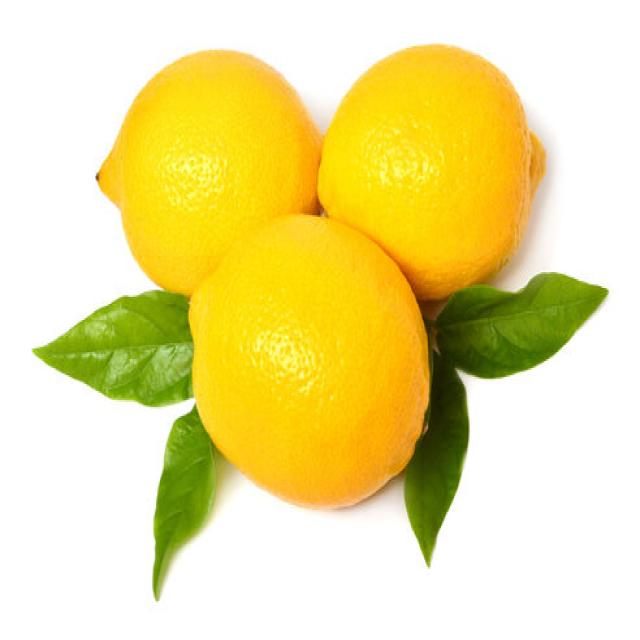Lemon: (187, 212, 431, 510), (316, 41, 546, 300), (95, 46, 324, 297)
